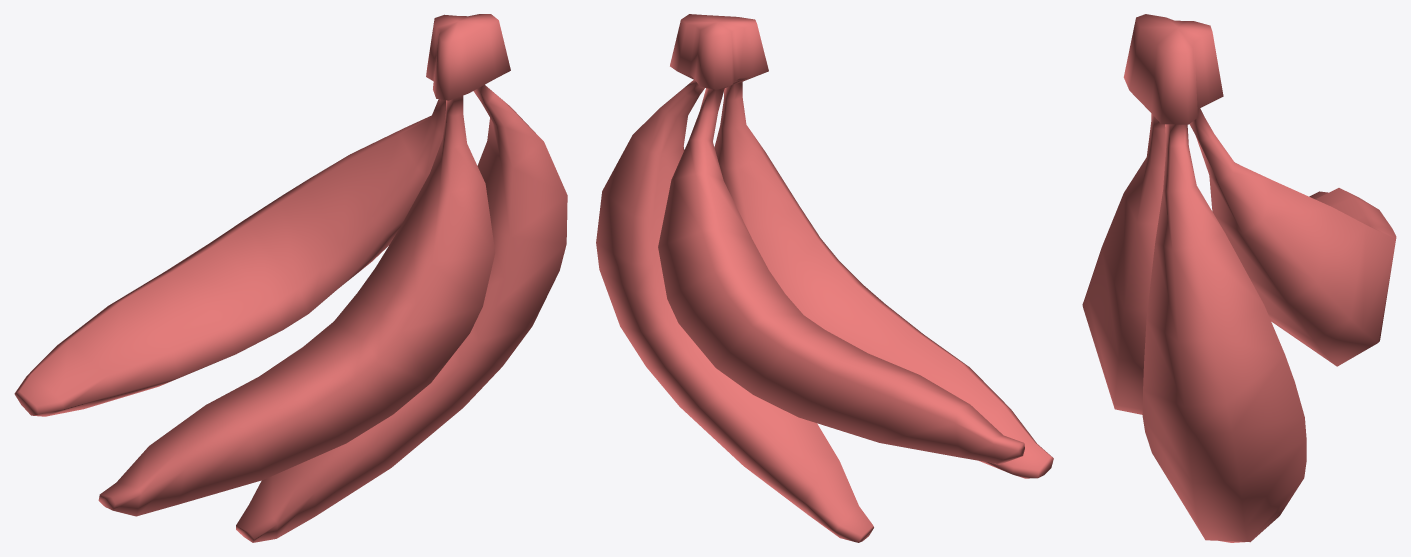
File: banana.fbx
3 views of the same model, side by side, from view 1: azimuth 30°, elevation 25°; view 2: azimuth 150°, elevation 25°; view 3: azimuth 270°, elevation 25° (orthographic). The views are drawn at different scales.
Visible parts, largest first — view 1: Banana; view 2: Banana; view 3: Banana.
Part boxes in pixels (x1,y1,x2,y2): Banana: (14, 14, 567, 542); Banana: (596, 14, 1053, 542); Banana: (1082, 14, 1396, 542).
Bounding box in the file's own units: 411 × 392 × 182.
